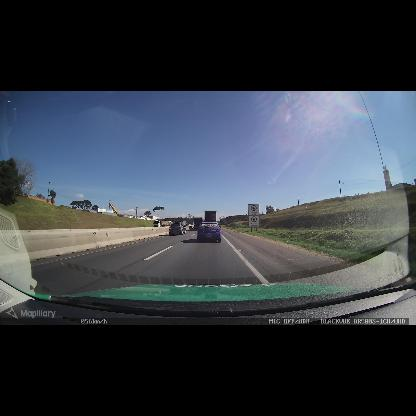R-19: (248, 204, 260, 227)
